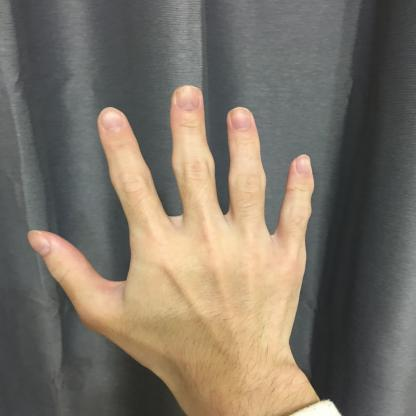bare_hand: (23, 78, 328, 404)
